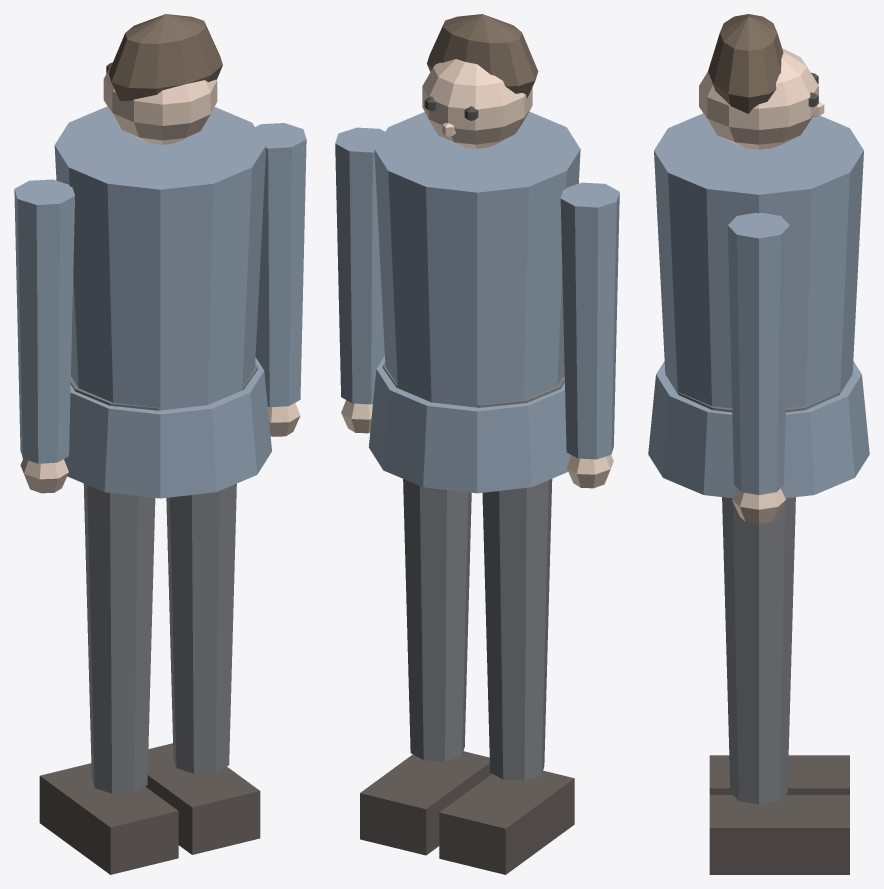
File: npc_pierre.glb
The picture shows the model from 3 angles, left to right: view 1: azimuth 30°, elevation 25°; view 2: azimuth 150°, elevation 25°; view 3: azimuth 270°, elevation 25°; orthographic projection. The views are drawn at different scales.
Visible parts, largest first — view 1: Torso, LegL, LegR, ArmL, ArmR, Head; view 2: Torso, LegL, LegR, ArmL, ArmR, Head; view 3: Torso, LegR, ArmR, Head, LegL.
Boxes of the visible parts, left/top/right/bottom form: Torso: left=54, top=106, right=271, bottom=498; LegL: left=39, top=483, right=178, bottom=874; LegR: left=145, top=483, right=260, bottom=854; ArmL: left=14, top=179, right=74, bottom=493; ArmR: left=255, top=123, right=306, bottom=436; Head: left=103, top=14, right=222, bottom=144; Torso: left=368, top=111, right=580, bottom=493; LegL: left=439, top=479, right=574, bottom=874; LegR: left=360, top=479, right=491, bottom=855; ArmL: left=560, top=182, right=619, bottom=488; ArmR: left=335, top=127, right=384, bottom=433; Head: left=422, top=14, right=538, bottom=148; Torso: left=648, top=113, right=869, bottom=498; LegR: left=709, top=497, right=849, bottom=874; ArmR: left=727, top=213, right=790, bottom=523; Head: left=699, top=14, right=824, bottom=149; LegL: left=709, top=755, right=849, bottom=794.
Bounding box in the file's own units: 0.63 × 1.74 × 0.426.
